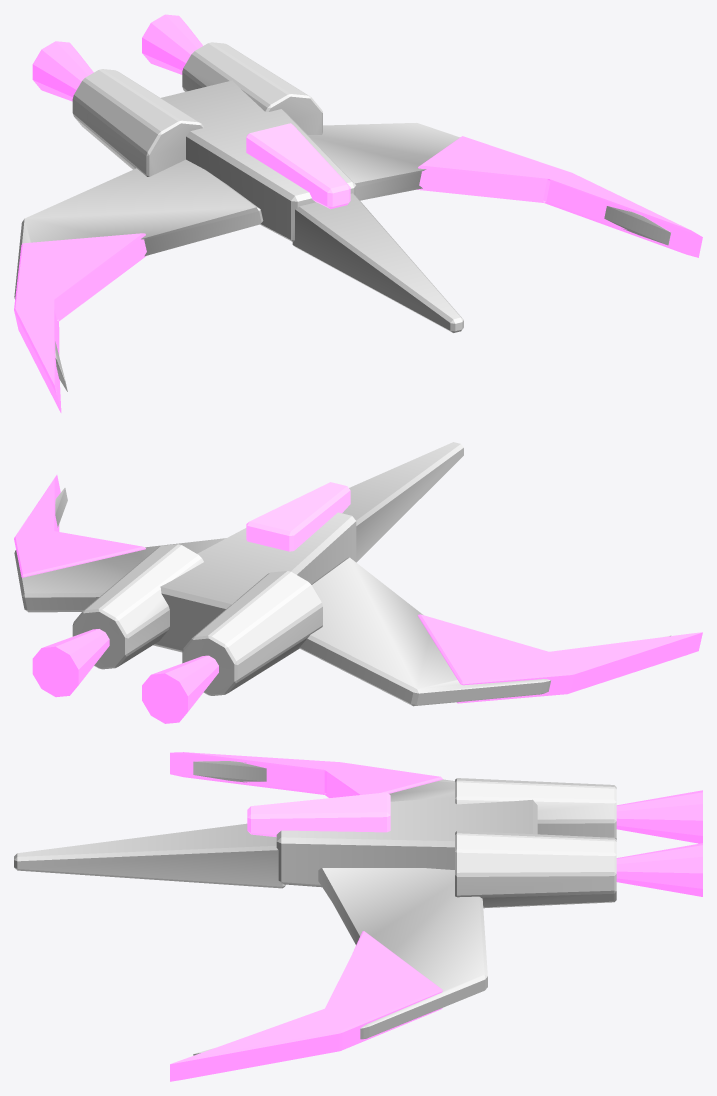
The model's file is e3_void_mantis.glb.
3 renders of one model, top to bottom at view 1: azimuth 30°, elevation 25°; view 2: azimuth 150°, elevation 25°; view 3: azimuth 270°, elevation 25°, orthographic.
Visible parts, largest first — view 1: ScytheArmor_L, CoreHull, ScytheBlade_R, ScytheBlade_L, NoseSpike, ScytheArmor_R, WarpPod_L, WarpPod_R, Canopy, Core_Pulse_Jet_L, Core_Pulse_Jet_R; view 2: ScytheArmor_L, ScytheBlade_L, CoreHull, WarpPod_L, WarpPod_R, NoseSpike, ScytheArmor_R, ScytheBlade_R, Canopy, Core_Pulse_Jet_R, Core_Pulse_Jet_L; view 3: ScytheArmor_R, ScytheBlade_R, CoreHull, WarpPod_R, NoseSpike, ScytheBlade_L, WarpPod_L, Canopy, Core_Pulse_Jet_R, Core_Pulse_Jet_L, ScytheArmor_L.
Boxes of the visible parts, x1=… form: ScytheArmor_L: x1=14, y1=159, x2=263, y2=391; CoreHull: x1=161, y1=80, x2=356, y2=241; ScytheBlade_R: x1=417, y1=136, x2=702, y2=257; ScytheBlade_L: x1=14, y1=233, x2=146, y2=412; NoseSpike: x1=292, y1=193, x2=463, y2=332; ScytheArmor_R: x1=308, y1=123, x2=670, y2=245; WarpPod_L: x1=72, y1=69, x2=203, y2=176; WarpPod_R: x1=182, y1=42, x2=322, y2=134; Canopy: x1=246, y1=123, x2=350, y2=209; Core_Pulse_Jet_L: x1=32, y1=41, x2=93, y2=101; Core_Pulse_Jet_R: x1=142, y1=14, x2=202, y2=74; ScytheArmor_L: x1=299, y1=557, x2=670, y2=706; ScytheBlade_L: x1=418, y1=614, x2=702, y2=703; CoreHull: x1=153, y1=512, x2=356, y2=652; WarpPod_L: x1=182, y1=571, x2=322, y2=695; WarpPod_R: x1=72, y1=544, x2=203, y2=669; NoseSpike: x1=342, y1=442, x2=463, y2=562; ScytheArmor_R: x1=14, y1=488, x2=226, y2=612; ScytheBlade_R: x1=14, y1=475, x2=145, y2=577; Canopy: x1=246, y1=482, x2=350, y2=551; Core_Pulse_Jet_R: x1=32, y1=629, x2=109, y2=697; Core_Pulse_Jet_L: x1=142, y1=655, x2=218, y2=723; ScytheArmor_R: x1=193, y1=868, x2=487, y2=1055; ScytheBlade_R: x1=170, y1=931, x2=442, y2=1081; CoreHull: x1=276, y1=797, x2=537, y2=887; WarpPod_R: x1=455, y1=830, x2=616, y2=908; NoseSpike: x1=14, y1=823, x2=285, y2=888; ScytheBlade_L: x1=170, y1=752, x2=442, y2=797; WarpPod_L: x1=455, y1=778, x2=616, y2=839; Canopy: x1=247, y1=792, x2=390, y2=837; Core_Pulse_Jet_R: x1=616, y1=843, x2=702, y2=896; Core_Pulse_Jet_L: x1=616, y1=790, x2=702, y2=843; ScytheArmor_L: x1=193, y1=761, x2=454, y2=801.
Bounding box in the file's own units: 2.7 × 0.509 × 2.52.
